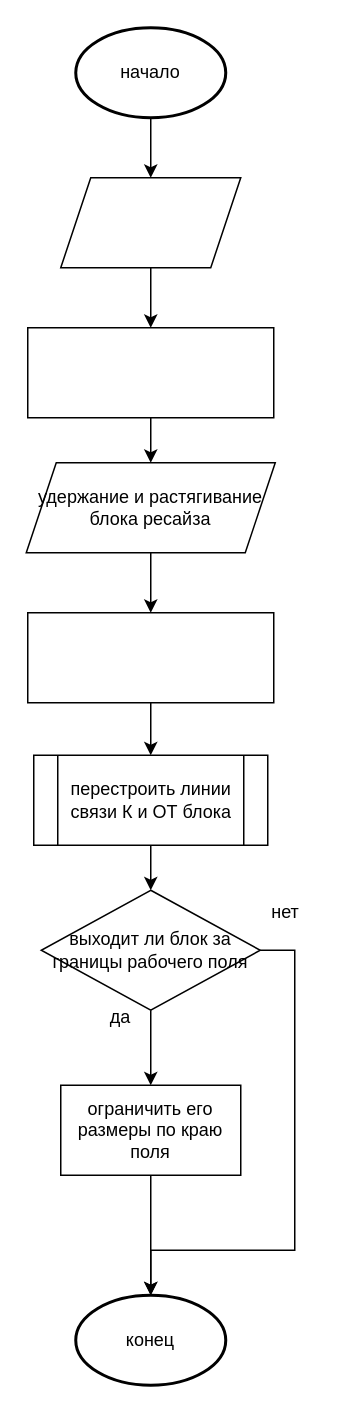
This 357x1412 diagram has some shape labels left out. The shapes that lost their labels are listed below. From the top down, each one's centre as x and y in pixels, then its label:
(x=150, y=222): выбор фигуры на рабочем поле
(x=150, y=372): подсветка фигуры и появление блока для ресайза
(x=150, y=657): Изменение размеров блока (ширина и высота)
